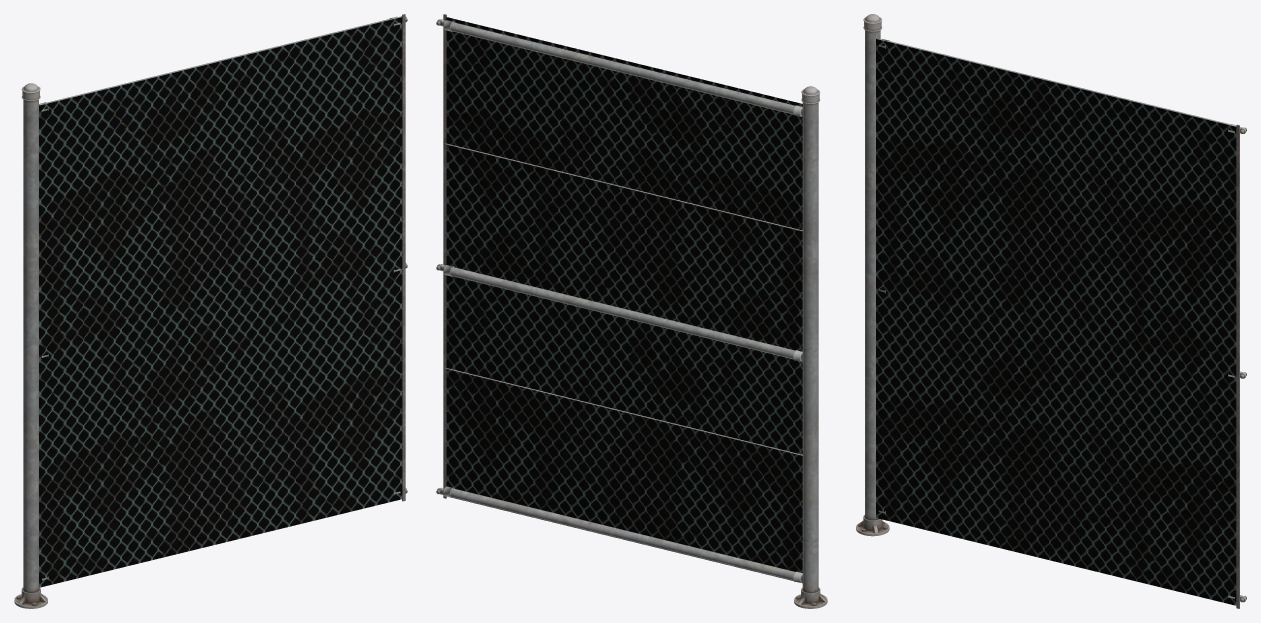
Rendered from fence.glb.
The picture shows the model from 3 angles, left to right: view 1: azimuth 30°, elevation 25°; view 2: azimuth 150°, elevation 25°; view 3: azimuth 330°, elevation 25°; orthographic projection.
Visible parts, largest first — view 1: modular_chainlink_fence_double, modular_chainlink_fence_post; view 2: modular_chainlink_fence_double, modular_chainlink_fence_post; view 3: modular_chainlink_fence_double, modular_chainlink_fence_post.
Boxes of the visible parts, x1,y1,x2,y2 form: modular_chainlink_fence_double: (39,14,407,587); modular_chainlink_fence_post: (14,83,47,608); modular_chainlink_fence_double: (436,14,802,583); modular_chainlink_fence_post: (794,86,827,608); modular_chainlink_fence_double: (876,39,1246,608); modular_chainlink_fence_post: (856,14,889,536).
Size of the model in its own units: 1.99 by 2.52 by 0.1494.
2 materials, 2 textured.
